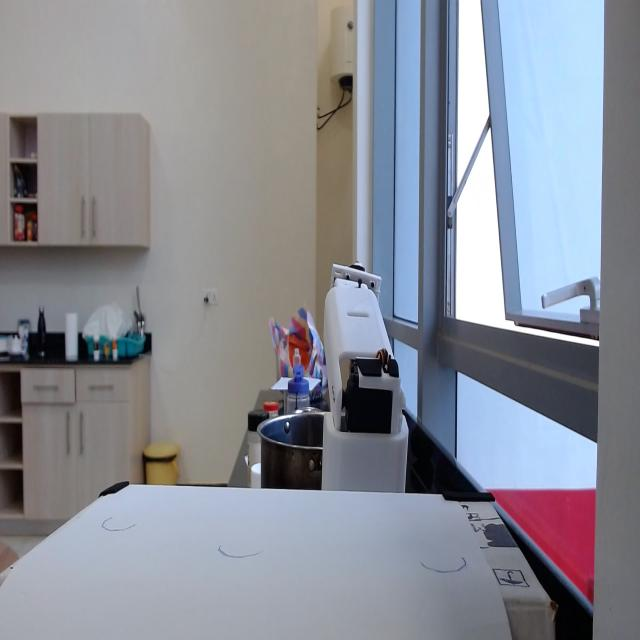cooking_pot: (258, 413, 322, 483)
